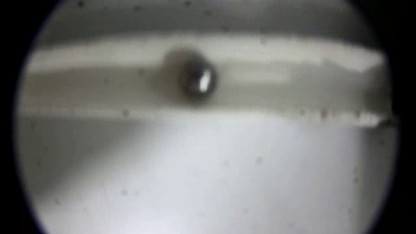gangzhu: (173, 56, 220, 102)
